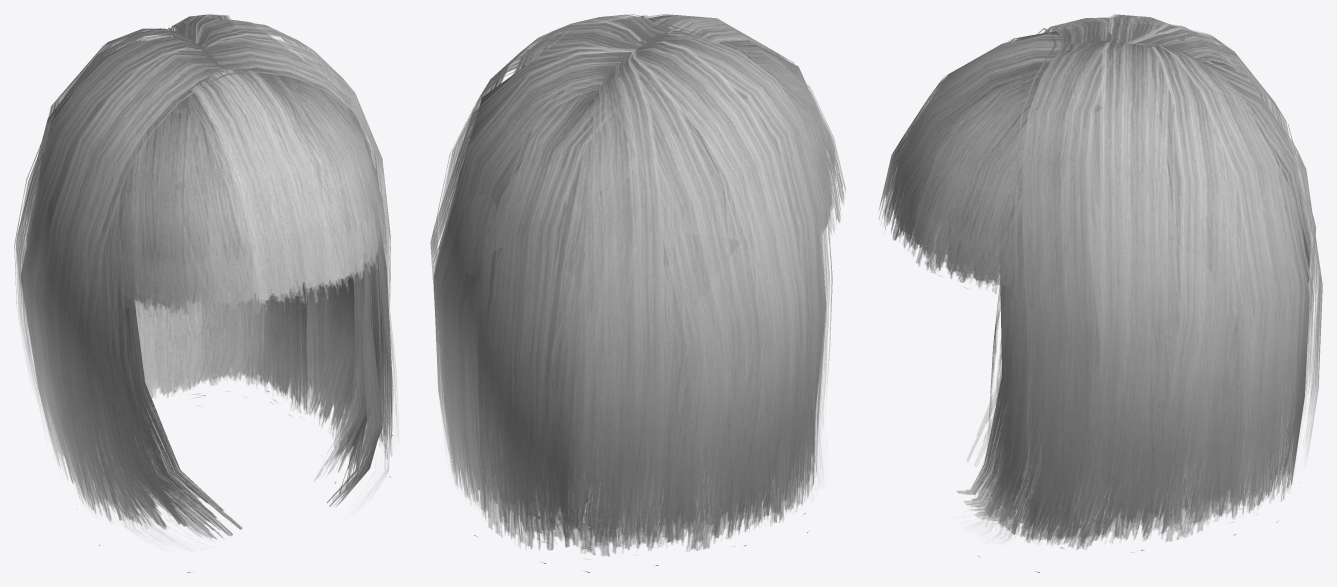
The model's file is daz_hair_asym_short.glb.
The picture shows the model from 3 angles, left to right: view 1: azimuth 30°, elevation 25°; view 2: azimuth 150°, elevation 25°; view 3: azimuth 270°, elevation 25°; orthographic projection. The views are drawn at different scales.
Parts seen in each view (by area): view 1: daz_hair_asym_short; view 2: daz_hair_asym_short; view 3: daz_hair_asym_short.
Part boxes in pixels (x1=…): daz_hair_asym_short: x1=14, y1=14, x2=396, y2=572; daz_hair_asym_short: x1=430, y1=14, x2=845, y2=572; daz_hair_asym_short: x1=879, y1=14, x2=1322, y2=572.
Size of the model in its own units: 0.2185 by 0.2949 by 0.2445.
Materials: 1 (1 with a texture image).
